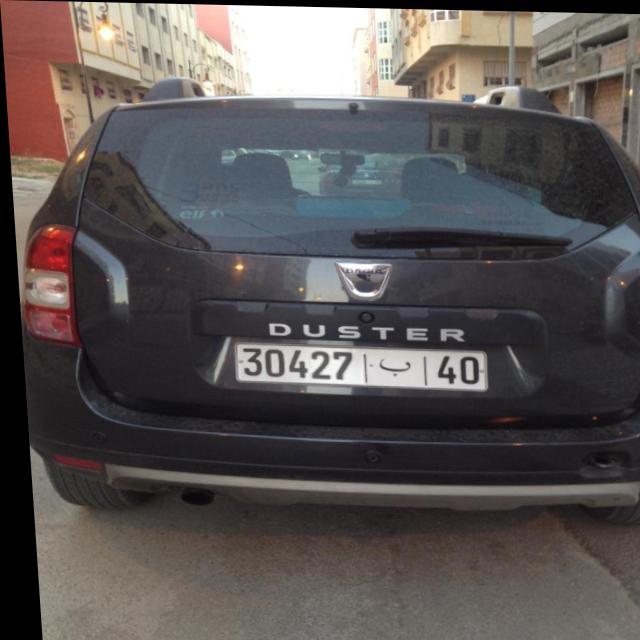License-Plate: (231, 342, 483, 389)
